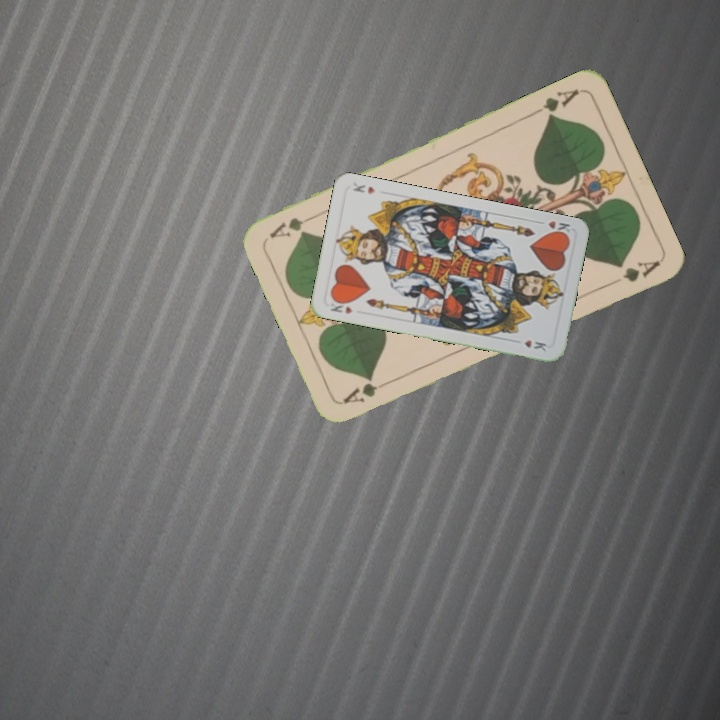GA: (527, 84, 582, 122), (339, 375, 396, 407)
HK: (533, 217, 574, 239), (327, 295, 355, 317)
